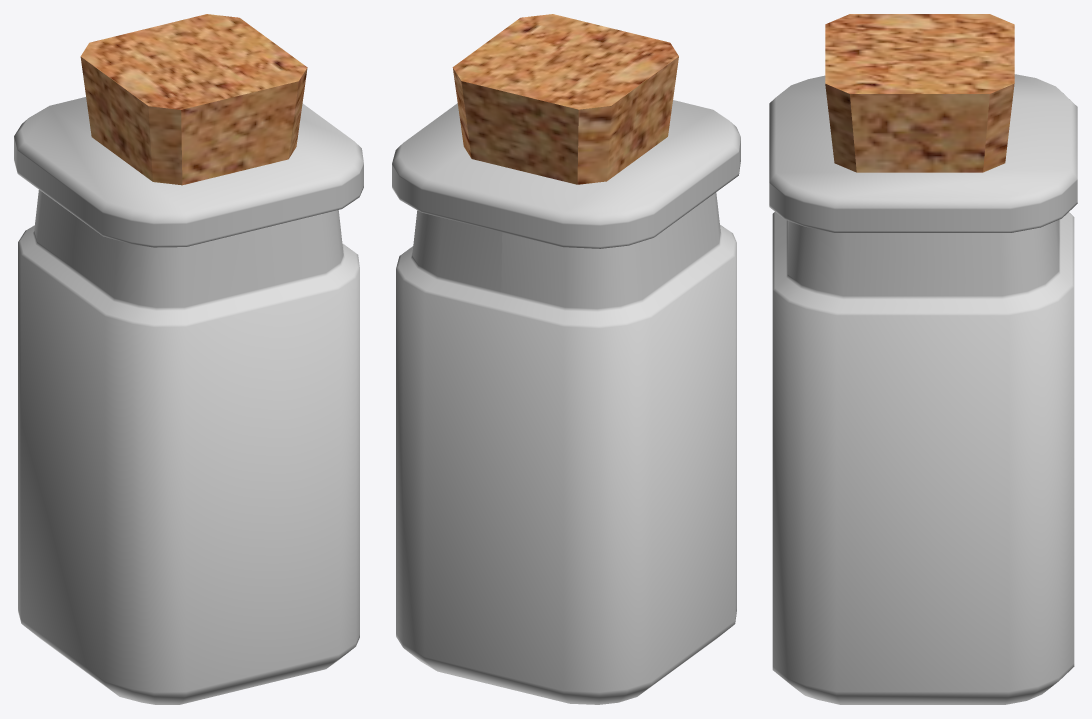
Rendered from Potion01.fbx.
3 views of the same model, side by side, from view 1: azimuth 30°, elevation 25°; view 2: azimuth 150°, elevation 25°; view 3: azimuth 270°, elevation 25° (orthographic). The views are drawn at different scales.
Parts seen in each view (by area): view 1: Cube, Cube.002; view 2: Cube, Cube.002; view 3: Cube, Cube.002.
Part boxes in pixels (<box>): Cube: <box>14,97,363,704</box>; Cube.002: <box>80,14,307,185</box>; Cube: <box>392,100,740,704</box>; Cube.002: <box>452,14,678,184</box>; Cube: <box>769,74,1077,704</box>; Cube.002: <box>825,14,1014,172</box>.
Bounding box in the file's own units: 1.22 × 2.61 × 1.22.
